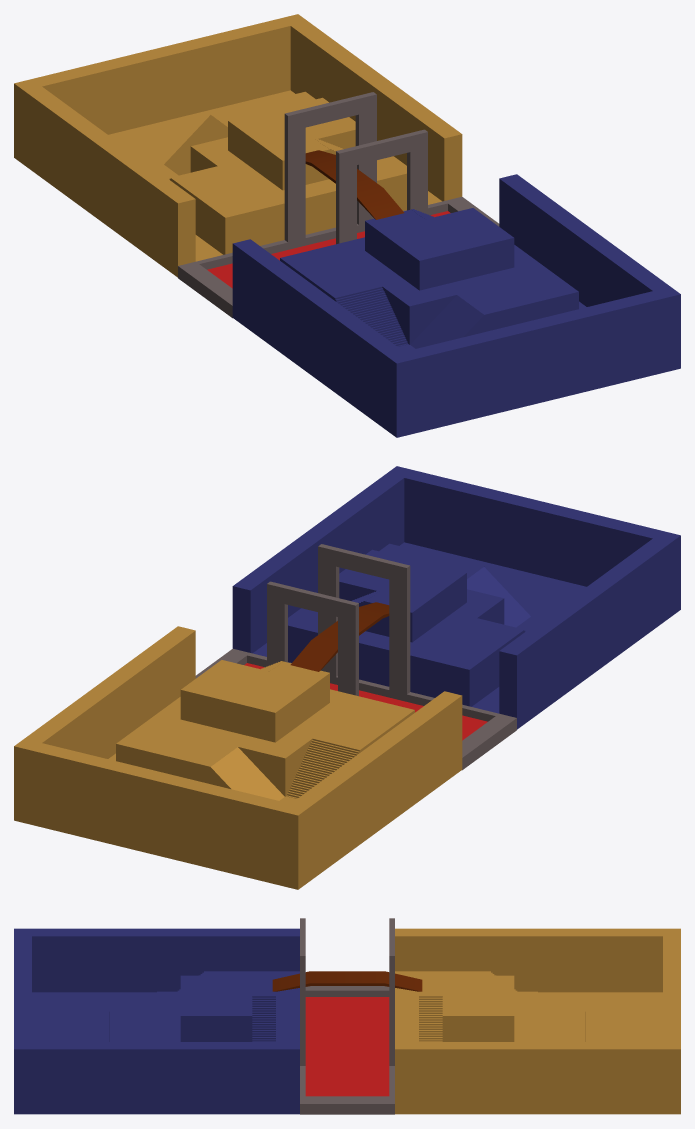
The picture shows the model from 3 angles, top to bottom: view 1: azimuth 30°, elevation 25°; view 2: azimuth 150°, elevation 25°; view 3: azimuth 270°, elevation 25°; orthographic projection. The views are drawn at different scales.
Parts seen in each view (by area): view 1: SegmentA, SegmentB, Plane, Arch, Plane__1_; view 2: SegmentB, SegmentA, Plane, Arch, Plane__1_; view 3: SegmentA, SegmentB, Plane__1_, Plane, Arch.
Boxes of the visible parts, <box> form: SegmentA: <box>232,174,680,437</box>; SegmentB: <box>14,14,462,277</box>; Plane: <box>178,92,499,318</box>; Arch: <box>305,150,404,219</box>; Plane__1_: <box>207,211,450,288</box>; SegmentB: <box>14,626,462,889</box>; SegmentA: <box>232,466,680,729</box>; Plane: <box>195,544,516,770</box>; Arch: <box>290,602,389,671</box>; Plane__1_: <box>244,663,487,740</box>; SegmentA: <box>14,928,299,1114</box>; SegmentB: <box>395,928,680,1114</box>; Plane__1_: <box>305,997,389,1096</box>; Plane: <box>300,918,394,1114</box>; Arch: <box>272,971,422,991</box>.
Size of the model in its own units: 3000 by 1400 by 7000.
